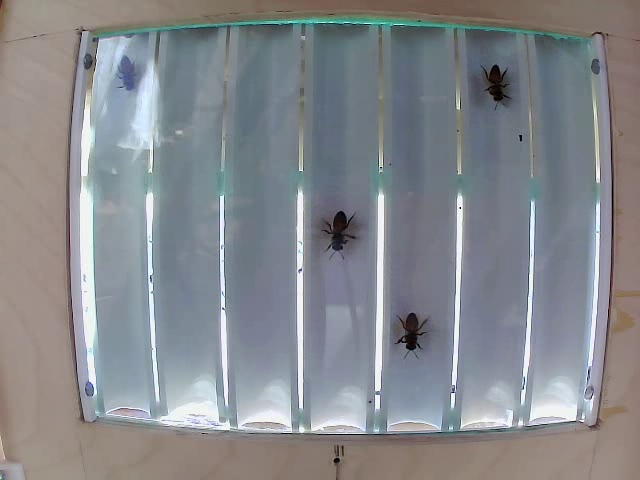bee: (386, 298, 432, 354), (479, 44, 514, 114), (324, 199, 361, 255), (110, 55, 151, 95)
